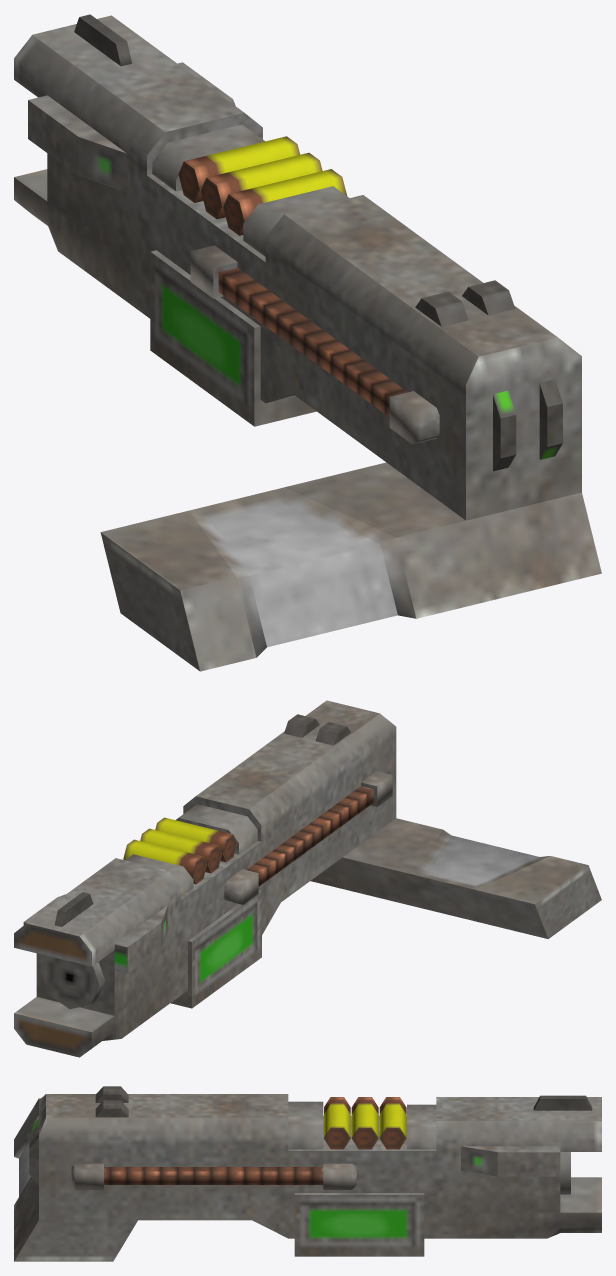
Rendered from plasmaPistol.glb.
3 views of the same model, one above another, from view 1: azimuth 30°, elevation 25°; view 2: azimuth 150°, elevation 25°; view 3: azimuth 270°, elevation 25° (orthographic). The views are drawn at different scales.
Visible parts, largest first — view 1: Box001; view 2: Box001; view 3: Box001.
Part boxes in pixels (x1,y1,x2,y2): Box001: (14, 14, 601, 671); Box001: (14, 700, 601, 1057); Box001: (14, 1086, 601, 1261).
Bounding box in the file's own units: 1.12 × 0.5911 × 2.15.
1 material, 1 textured.
